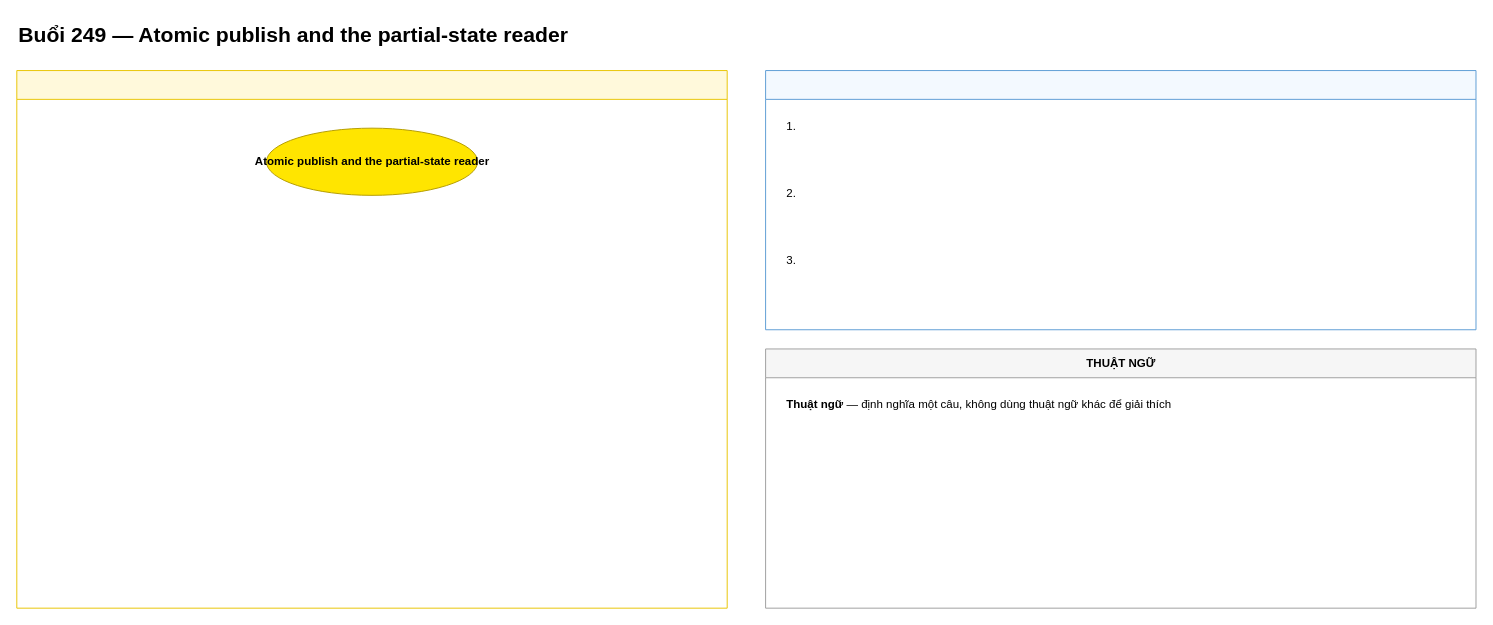
Image size: 1493x625. Some labels were removed from this diagram. The shapes that lost their labels are listed below. From the top down, each one's box as (x1, y1, x2, y2) in pixels, then its label:
(765, 70, 1476, 330): KEY TAKEAWAY — ba điều phải nhớ
(16, 70, 727, 608): MINDMAP
